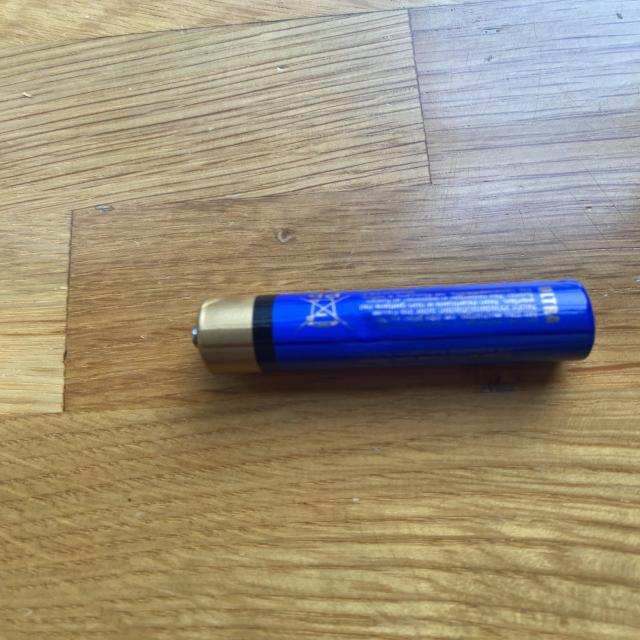AA: (190, 278, 596, 376)
